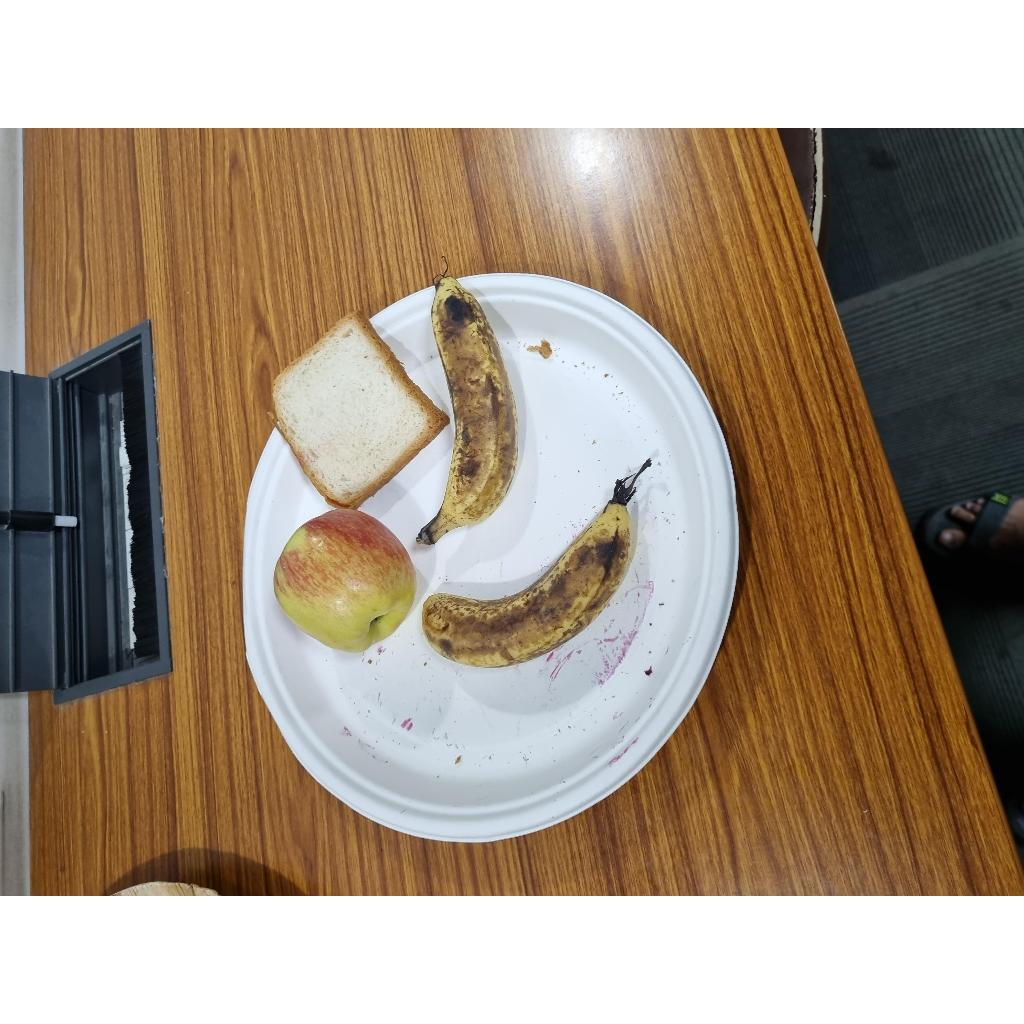apple: (265, 512, 413, 653)
banana: (422, 459, 651, 667), (417, 275, 517, 544)
